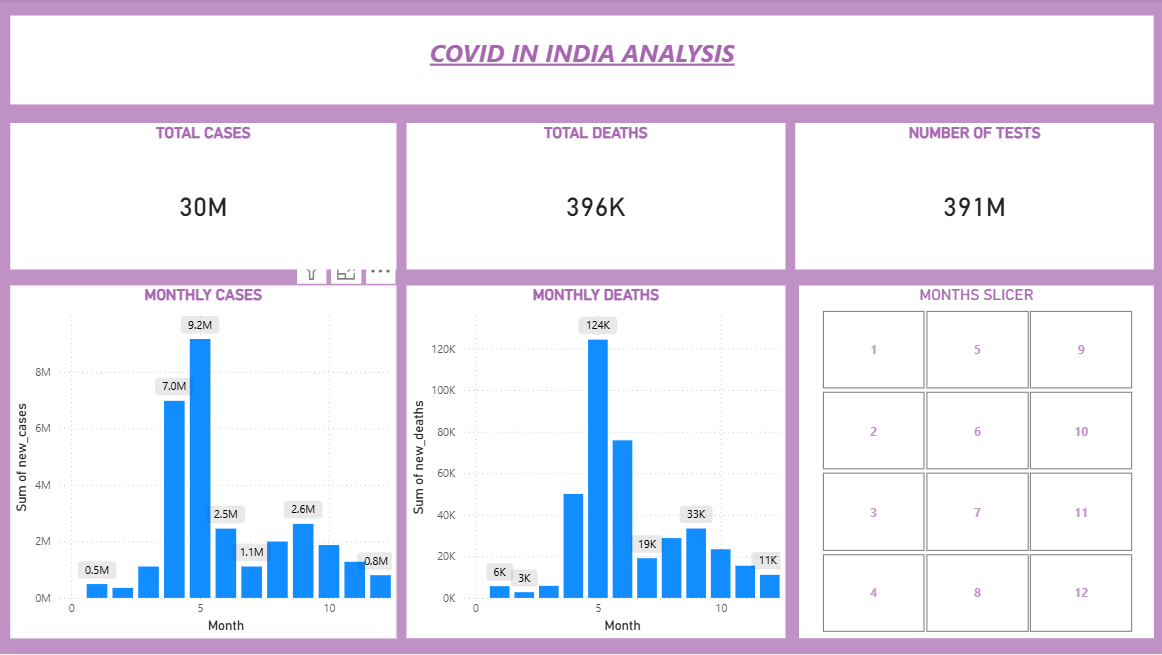

The dashboard page shown, as its layout file describes it:
{"tool":"powerbi","page":{"name":"Page 1","canvas":[1280,720],"ordinal":0},"visuals":[{"type":"columnChart","title":"MONTHLY DEATHS","fields":{"Y":["Sum(clean_covid.new_deaths)"],"Category":["clean_covid.Month"]},"box":[447.3,322.5,415.8,380.1],"z":0},{"type":"clusteredColumnChart","title":"MONTHLY CASES","fields":{"Y":["Sum(clean_covid.new_cases)"],"Category":["clean_covid.Month"]},"box":[12.3,322.5,424,380.1],"z":1000},{"type":"card","title":"TOTAL CASES","fields":{"Values":["Sum(clean_covid.new_cases)"]},"box":[12.3,137.2,424,160.5],"z":2000},{"type":"card","title":"TOTAL DEATHS","fields":{"Values":["Sum(clean_covid.new_deaths)"]},"box":[447.3,137.2,415.8,160.5],"z":3000},{"type":"card","title":"NUMBER OF TESTS","fields":{"Values":["Sum(clean_covid.new_tests)"]},"box":[874.1,137.2,393.8,160.5],"z":4000},{"type":"slicer","title":"MONTHS  SLICER","fields":{"Values":["clean_covid.Month"]},"box":[878.2,322.5,389.7,380.1],"z":5001},{"type":"textbox","box":[12.3,19.2,1255.6,97.4],"z":5002}]}

Visuals, with their boxes in screenshot pixels (x1, y1, x2, y2), scaled from the page's 1280x720 canvas onto the 1162x655 screenshot:
"MONTHLY DEATHS" columnChart: 406, 293, 784, 639
"MONTHLY CASES" clusteredColumnChart: 11, 293, 396, 639
"TOTAL CASES" card: 11, 125, 396, 271
"TOTAL DEATHS" card: 406, 125, 784, 271
"NUMBER OF TESTS" card: 794, 125, 1151, 271
"MONTHS  SLICER" slicer: 797, 293, 1151, 639
textbox: 11, 17, 1151, 106
